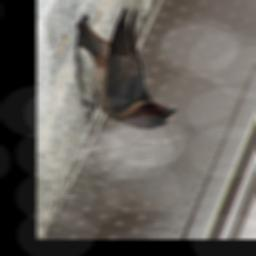Swallow: (72, 7, 177, 129)
